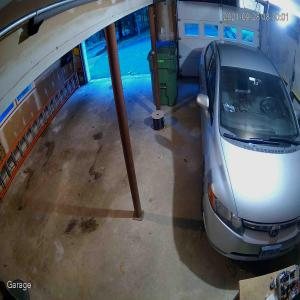garbage bin: (146, 39, 178, 107)
honda civic: (196, 40, 300, 261)
